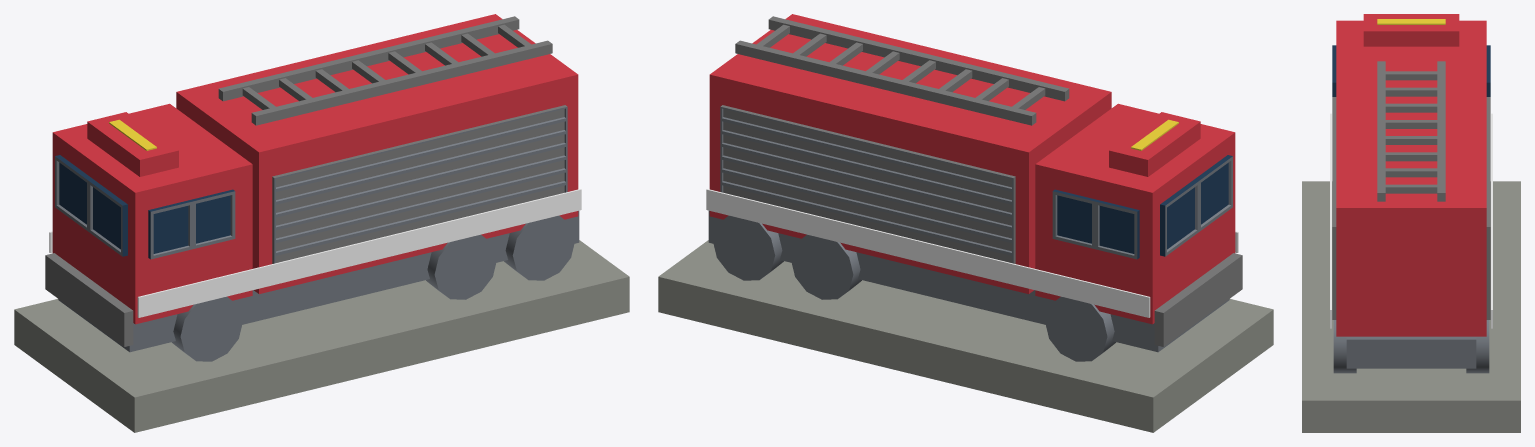
File: mashup-truck-mid-prebuilt_close.fbx
3 views of the same model, side by side, from view 1: azimuth 30°, elevation 25°; view 2: azimuth 150°, elevation 25°; view 3: azimuth 270°, elevation 25° (orthographic). The views are drawn at different scales.
Parts seen in each view (by area): view 1: a1052.Truck.001; view 2: a1052.Truck.001; view 3: a1052.Truck.001.
Part boxes in pixels (x1,y1,x2,y2): a1052.Truck.001: (14, 14, 629, 432); a1052.Truck.001: (658, 14, 1273, 432); a1052.Truck.001: (1302, 14, 1520, 432).
Size of the model in its own units: 7.6 by 3.62 by 3.2.
